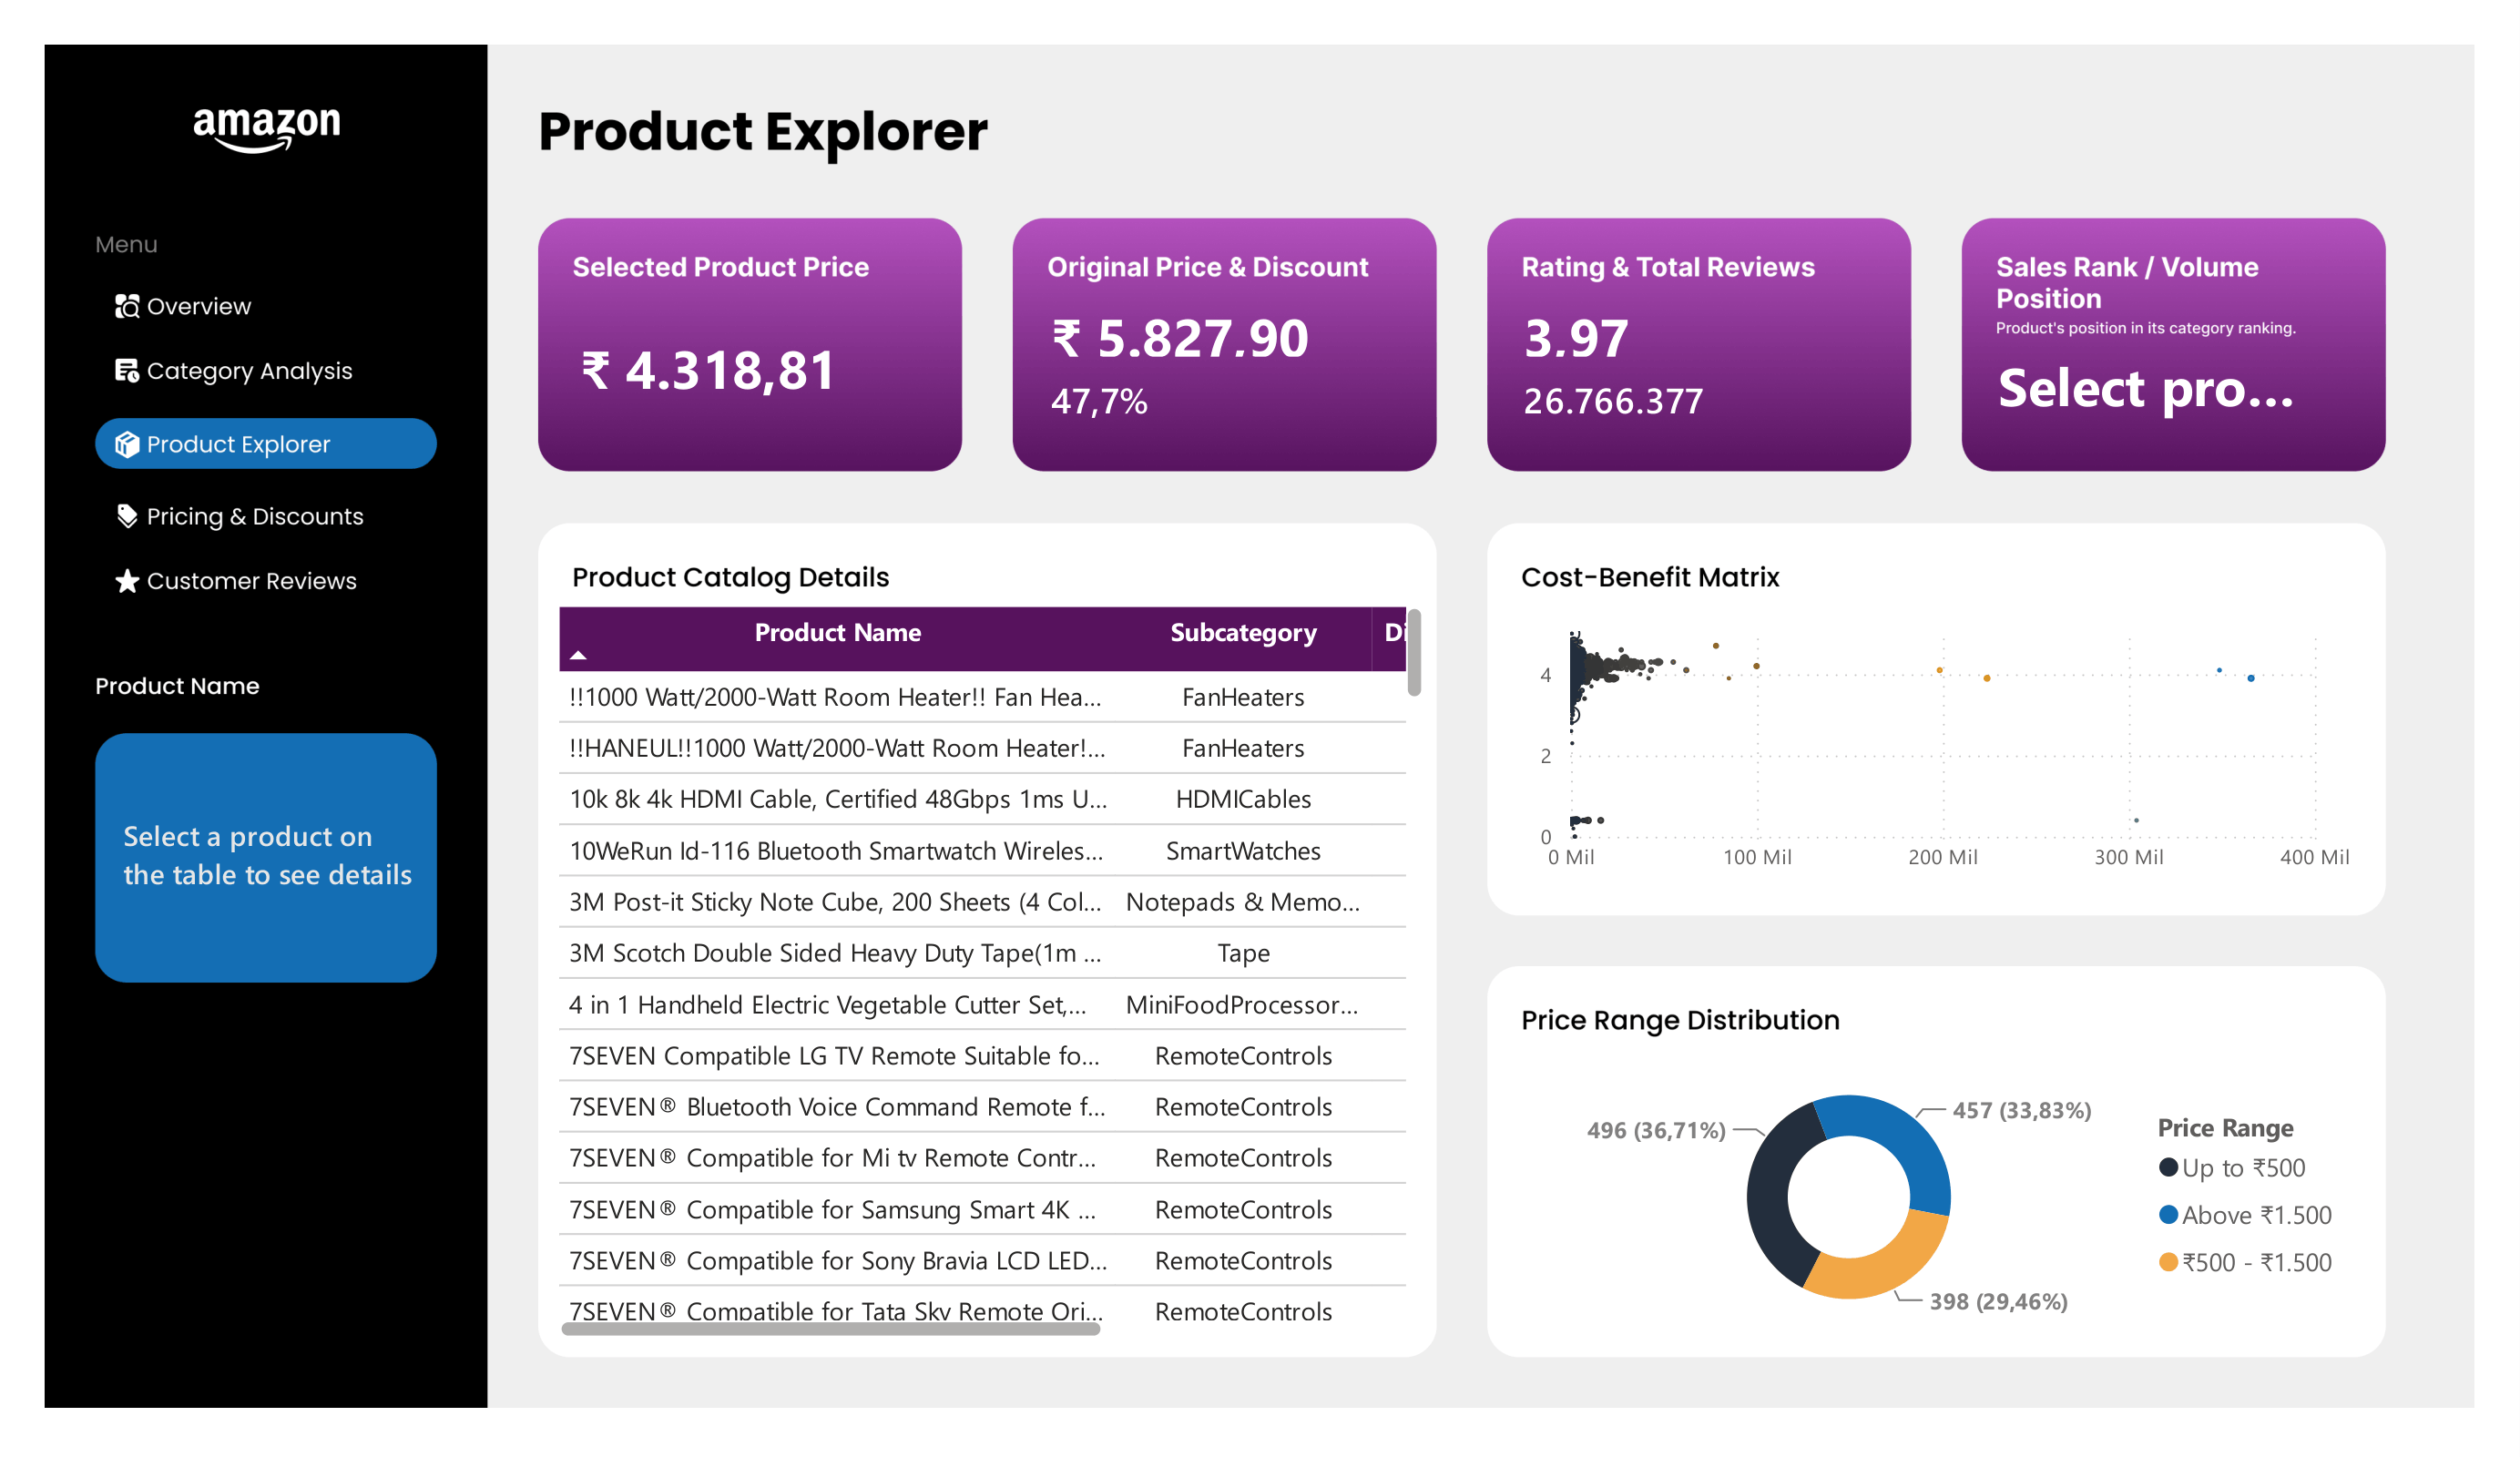

The dashboard page shown, as its layout file describes it:
{"tool":"powerbi","page":{"name":"Product Explorer","canvas":[1280,720],"ordinal":2},"visuals":[{"type":"cardVisual","fields":{"Data":["Category Medidas.Average Discounted Price"]},"box":[265,98.3,200,138.3],"z":0},{"type":"cardVisual","fields":{"Data":["Overview Medidas.Average Price","Overview Medidas.Average Discount"]},"box":[513.3,133.3,213.3,103.3],"z":1000},{"type":"cardVisual","fields":{"Data":["Product Medidas.Product Rank in Category"]},"box":[1011.7,133.3,198.3,86.7],"z":2000},{"type":"cardVisual","fields":{"Data":["Overview Medidas.Average Rating","Overview Medidas.Total Reviews"]},"box":[761.7,133.3,213.3,103.3],"z":3000},{"type":"tableEx","fields":{"Values":["amazon.product_name","amazon.Subcategory","amazon.discounted_price","amazon.rating","Sum(amazon.rating_count)"]},"box":[265,296.2,461.2,385],"z":4000},{"type":"cardVisual","fields":{"Data":["Product Medidas.Selected Product Name"]},"box":[11.7,318.3,210,213.3],"z":5000},{"type":"scatterChart","fields":{"X":["Category Medidas.Average Discounted Price Num"],"Category":["amazon.product_name"],"Y":["Avg(amazon.rating_correct)"],"Size":["Sum(amazon.rating_count)"]},"box":[776.2,296.2,443.8,148.8],"z":6000},{"type":"donutChart","fields":{"Category":["amazon.Price Range"],"Y":["Overview Medidas.Total Products Num"]},"box":[782.5,532.5,437.5,148.8],"z":7000},{"type":"actionButton","box":[24.7,124,181.3,28.7],"z":8000},{"type":"actionButton","box":[25,159.8,182,28.7],"z":9000},{"type":"actionButton","box":[25,196.2,182,28.7],"z":10000},{"type":"actionButton","box":[24.7,269,182,28.7],"z":11000},{"type":"actionButton","box":[24.7,234.3,182,28.7],"z":12000}]}

Visuals, with their boxes on the page's 1280x720 design canvas (x1, y1, x2, y2). These are canvas units, not pixel positions in the 2520x1457 screenshot, which may show the page scaled, cropped or inside an application window:
cardVisual - Category Medidas.Average Discounted Price: 265,98,465,237
cardVisual - Overview Medidas.Average Price x Overview Medidas.Average Discount: 513,133,727,237
cardVisual - Product Medidas.Product Rank in Category: 1012,133,1210,220
cardVisual - Overview Medidas.Average Rating x Overview Medidas.Total Reviews: 762,133,975,237
tableEx - amazon.product_name x amazon.Subcategory: 265,296,726,681
cardVisual - Product Medidas.Selected Product Name: 12,318,222,532
scatterChart - Category Medidas.Average Discounted Price Num x amazon.product_name: 776,296,1220,445
donutChart - amazon.Price Range x Overview Medidas.Total Products Num: 782,532,1220,681
actionButton: 25,124,206,153
actionButton: 25,160,207,188
actionButton: 25,196,207,225
actionButton: 25,269,207,298
actionButton: 25,234,207,263
